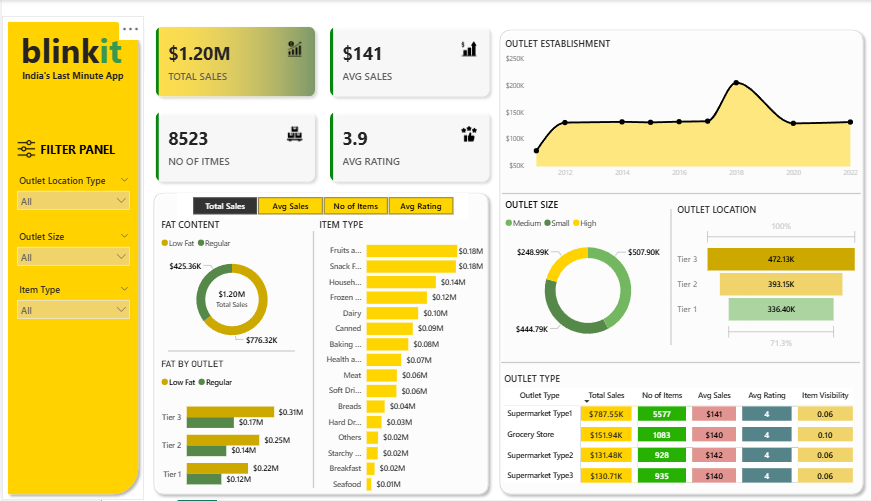

The dashboard page shown, as its layout file describes it:
{"tool":"powerbi","page":{"name":"Page 1","canvas":[1400,800],"ordinal":0},"visuals":[{"type":"shape","box":[0,25.6,227.2,774.4],"z":0},{"type":"textbox","box":[25.6,38.4,216,80],"z":1000},{"type":"textbox","box":[27.2,105.6,200,35.2],"z":2000},{"type":"cardVisual","fields":{"Data":["BlinkIT Grocery Data.Total Sales","BlinkIT Grocery Data.Avg Sales","BlinkIT Grocery Data.No of Items","BlinkIT Grocery Data.Avg Rating"]},"box":[228.8,25.6,569.6,283.2],"z":3000},{"type":"shape","box":[233.6,299.2,553.6,500.8],"z":4000},{"type":"donutChart","title":"FAT CONTENT","fields":{"Y":["BlinkIT Grocery Data.Total Sales"],"Category":["BlinkIT Grocery Data.Item Fat Content"]},"box":[249.6,348.8,236.8,212.8],"z":5000},{"type":"slicer","fields":{"Values":["Matrics.Matrics"]},"box":[280,308.8,465.6,41],"z":6000},{"type":"cardVisual","fields":{"Data":["BlinkIT Grocery Data.Total Sales"]},"box":[308.8,444.8,118.4,64],"z":7000},{"type":"clusteredBarChart","title":"FAT BY OUTLET","fields":{"Y":["BlinkIT Grocery Data.Total Sales"],"Category":["BlinkIT Grocery Data.Outlet Location Type"],"Series":["BlinkIT Grocery Data.Item Fat Content"]},"box":[249.6,574.4,236.8,225.6],"z":8000},{"type":"shape","box":[265.6,545.6,203.2,32],"z":9000},{"type":"shape","box":[486.4,369.6,24,411.2],"z":10000},{"type":"barChart","title":"ITEM TYPE","fields":{"Y":["BlinkIT Grocery Data.Total Sales"],"Category":["BlinkIT Grocery Data.Item Type"]},"box":[502.4,348.8,272,451.2],"z":11000},{"type":"shape","box":[787.2,38.4,600,761.6],"z":12000},{"type":"lineChart","title":"OUTLET ESTABLISHMENT","fields":{"Category":["BlinkIT Grocery Data.Outlet Establishment Year"],"Y":["BlinkIT Grocery Data.Total Sales"]},"box":[800,59.2,574.4,235.2],"z":13000},{"type":"donutChart","title":"OUTLET SIZE","fields":{"Y":["BlinkIT Grocery Data.Total Sales"],"Category":["BlinkIT Grocery Data.Outlet Size"]},"box":[800,316.8,275.2,248],"z":14000},{"type":"shape","box":[800,294.4,574.4,30.4],"z":15000},{"type":"shape","box":[1054.4,334.4,32,217.6],"z":16000},{"type":"funnel","title":"OUTLET LOCATION","fields":{"Y":["Sum(BlinkIT Grocery Data.Sales)"],"Category":["BlinkIT Grocery Data.Outlet Location Type"]},"box":[1075.2,324.8,299.2,240],"z":17000},{"type":"shape","box":[798.4,564.8,574.4,30.4],"z":18000},{"type":"pivotTable","title":"OUTLET TYPE","fields":{"Rows":["BlinkIT Grocery Data.Outlet Type"],"Values":["BlinkIT Grocery Data.Total Sales","BlinkIT Grocery Data.No of Items","BlinkIT Grocery Data.Avg Sales","BlinkIT Grocery Data.Avg Rating","Avg(BlinkIT Grocery Data.Item Visibility)"]},"box":[798.4,595.2,574.4,204.8],"z":19000},{"type":"slicer","fields":{"Values":["BlinkIT Grocery Data.Outlet Location Type"]},"box":[14.4,274.3,200,67.2],"z":20000},{"type":"slicer","fields":{"Values":["BlinkIT Grocery Data.Outlet Size"]},"box":[14.4,363.9,200,67.2],"z":21000},{"type":"slicer","fields":{"Values":["BlinkIT Grocery Data.Item Type"]},"box":[14.4,448.7,200,67.2],"z":22000},{"type":"textbox","box":[56,220.8,155.2,40],"z":23000},{"type":"image","box":[0,219.2,77,38],"z":24000}]}

Visuals, with their boxes in screenshot pixels (x1, y1, x2, y2), scaled from the page's 1400x800 canvas onto the 871x501 screenshot:
shape: [left=0, top=16, right=141, bottom=500]
textbox: [left=16, top=24, right=150, bottom=74]
textbox: [left=17, top=66, right=141, bottom=88]
cardVisual - BlinkIT Grocery Data.Total Sales x BlinkIT Grocery Data.Avg Sales: [left=142, top=16, right=497, bottom=193]
shape: [left=145, top=187, right=490, bottom=500]
"FAT CONTENT" donutChart: [left=155, top=218, right=303, bottom=352]
slicer - Matrics.Matrics: [left=174, top=193, right=464, bottom=219]
cardVisual - BlinkIT Grocery Data.Total Sales: [left=192, top=279, right=266, bottom=319]
"FAT BY OUTLET" clusteredBarChart: [left=155, top=360, right=303, bottom=500]
shape: [left=165, top=342, right=292, bottom=362]
shape: [left=303, top=231, right=318, bottom=489]
"ITEM TYPE" barChart: [left=313, top=218, right=482, bottom=500]
shape: [left=490, top=24, right=863, bottom=500]
"OUTLET ESTABLISHMENT" lineChart: [left=498, top=37, right=855, bottom=184]
"OUTLET SIZE" donutChart: [left=498, top=198, right=669, bottom=354]
shape: [left=498, top=184, right=855, bottom=203]
shape: [left=656, top=209, right=676, bottom=346]
"OUTLET LOCATION" funnel: [left=669, top=203, right=855, bottom=354]
shape: [left=497, top=354, right=854, bottom=373]
"OUTLET TYPE" pivotTable: [left=497, top=373, right=854, bottom=500]
slicer - BlinkIT Grocery Data.Outlet Location Type: [left=9, top=172, right=133, bottom=214]
slicer - BlinkIT Grocery Data.Outlet Size: [left=9, top=228, right=133, bottom=270]
slicer - BlinkIT Grocery Data.Item Type: [left=9, top=281, right=133, bottom=323]
textbox: [left=35, top=138, right=131, bottom=163]
image: [left=0, top=137, right=48, bottom=161]
